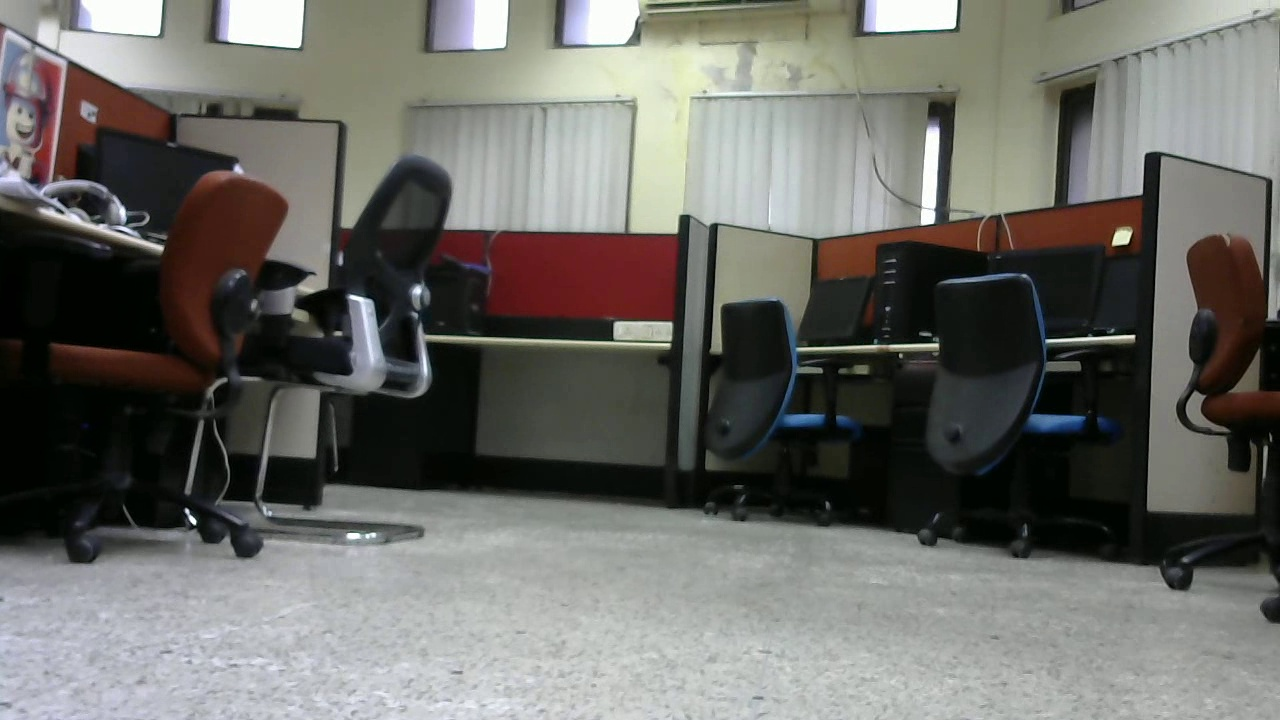chair: (13, 153, 287, 557), (296, 151, 456, 551), (907, 266, 1115, 564), (1128, 231, 1280, 624), (695, 296, 864, 528)
